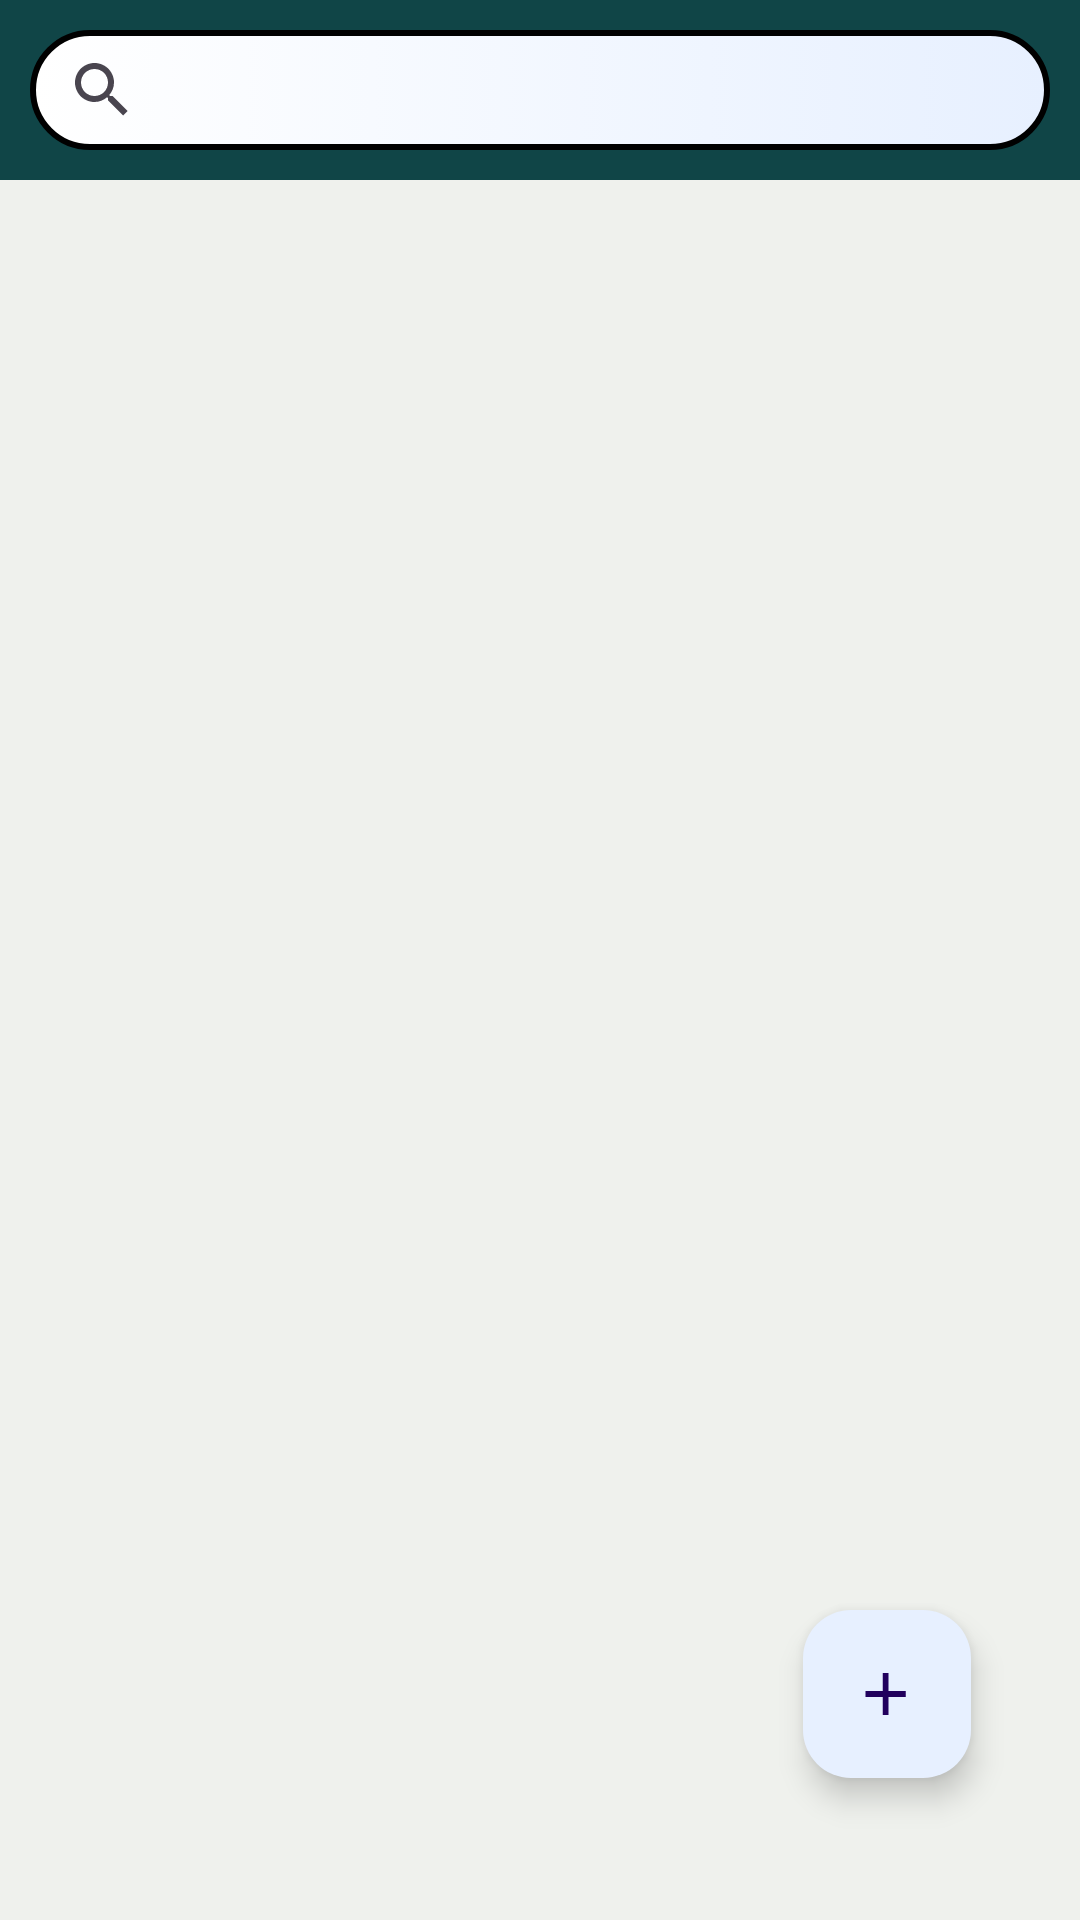

Where to tap for icons on this 1080px×1920px app screen, as [x,y]:
Add New Product: [887,1694]
